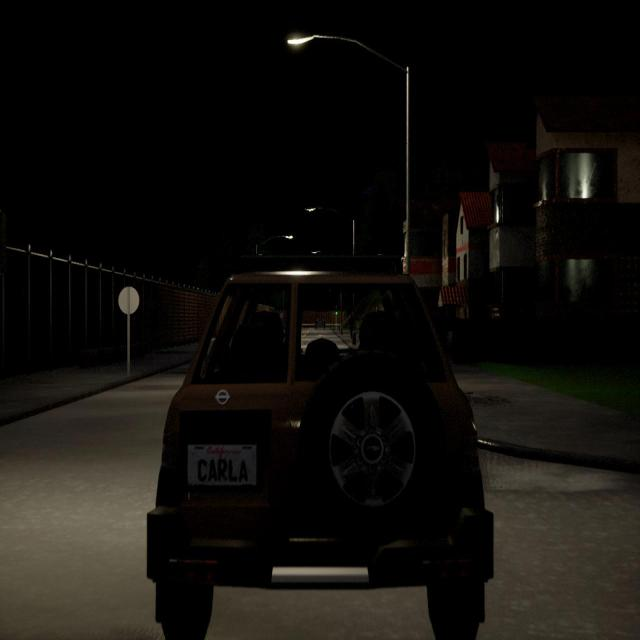Traffic_Signs: (118, 284, 141, 321)
Vehicle: (147, 258, 493, 638), (313, 318, 327, 330)
traffic_light: (334, 307, 338, 317)
